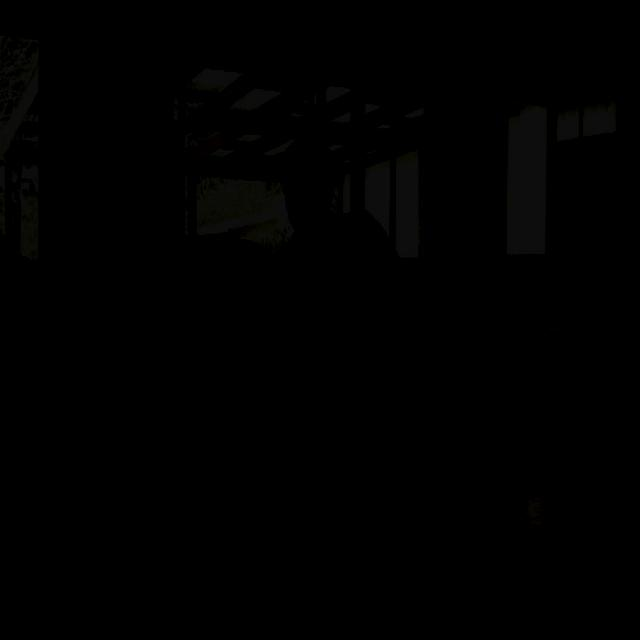Dog: (19, 94, 289, 375)
